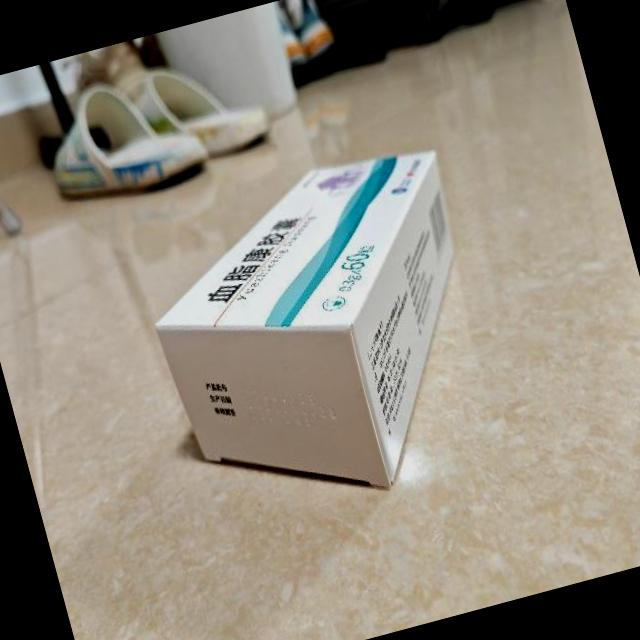box: (127, 135, 517, 534)
